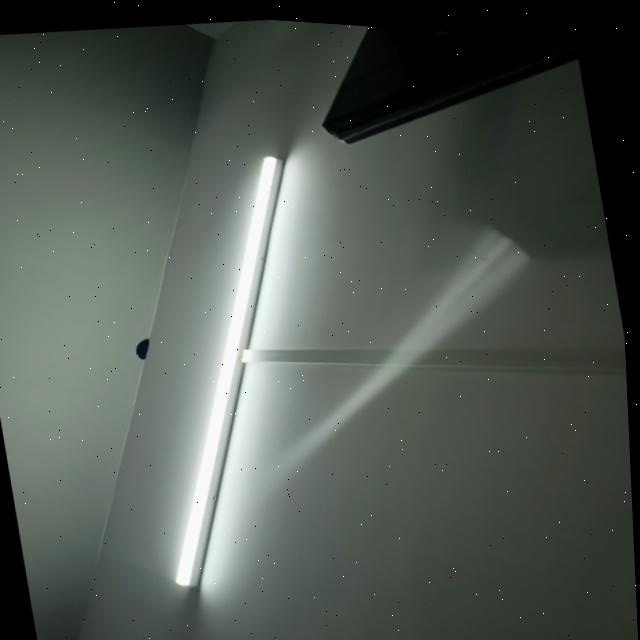fluorescent tube: (99, 138, 363, 608)
